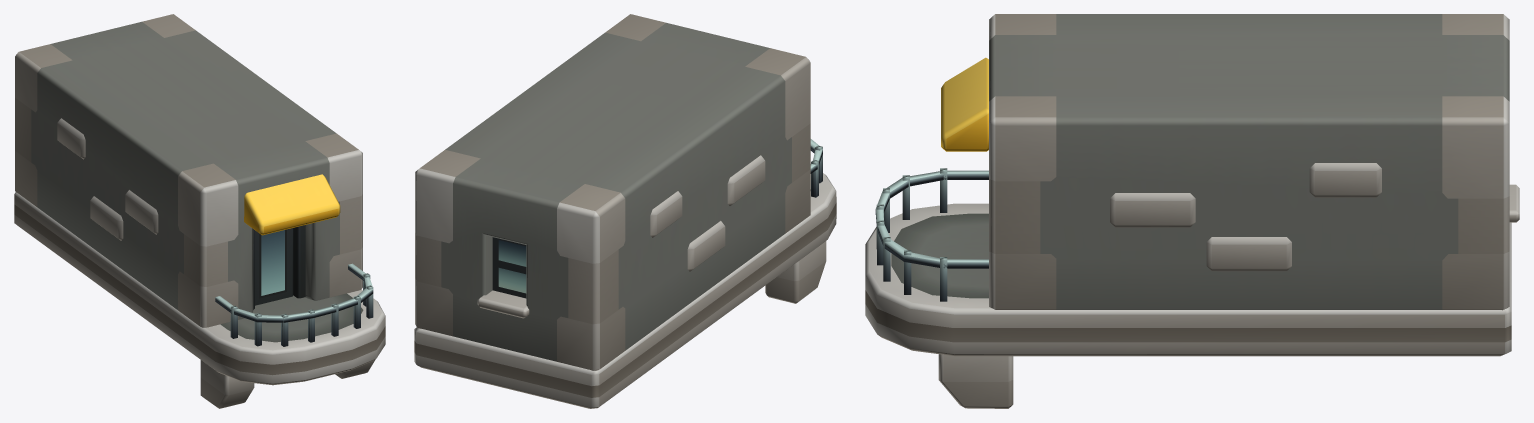
File: appartment_type1_x2_balcony_grey.fbx
3 renders of one model, left to right at view 1: azimuth 30°, elevation 25°; view 2: azimuth 150°, elevation 25°; view 3: azimuth 270°, elevation 25°, orthographic. The views are drawn at different scales.
Visible parts, largest first — view 1: appartment_type1_x2_balcony_grey, door_appartment_type1_x2_balcony_grey; view 2: appartment_type1_x2_balcony_grey; view 3: appartment_type1_x2_balcony_grey.
Part boxes in pixels (<box>): appartment_type1_x2_balcony_grey: <box>14,14,385,408</box>; door_appartment_type1_x2_balcony_grey: <box>255,228,293,305</box>; appartment_type1_x2_balcony_grey: <box>414,14,836,408</box>; appartment_type1_x2_balcony_grey: <box>865,14,1519,408</box>.
Bounding box in the file's own units: 419 × 505 × 1017.
